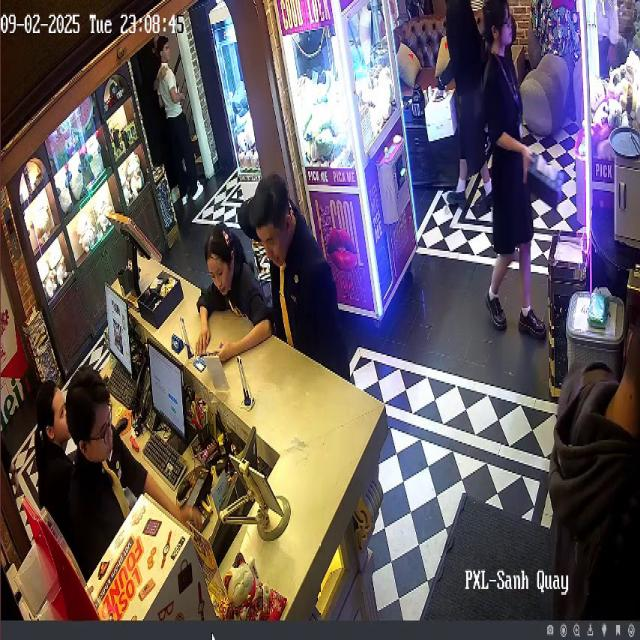khach: (442, 0, 495, 202), (154, 31, 208, 208), (571, 0, 623, 71)
nhan vien: (480, 1, 548, 348), (252, 169, 350, 384), (195, 212, 276, 363), (67, 362, 125, 571), (31, 372, 78, 521)
